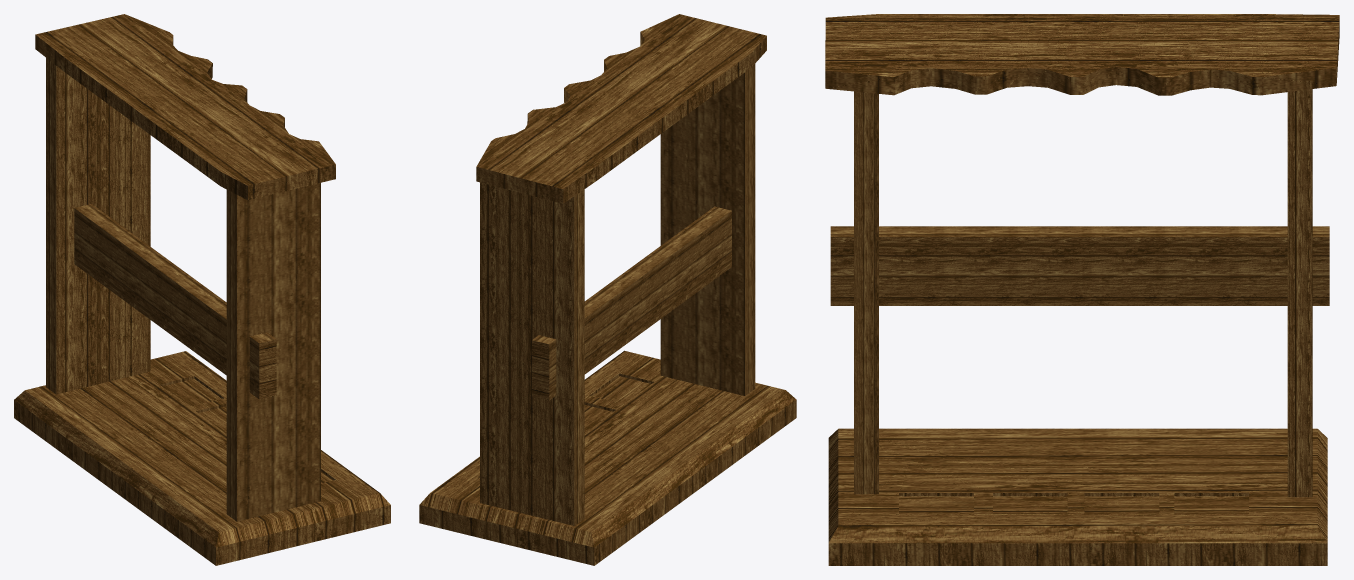
File: weaponrack.FBX
3 renders of one model, left to right at view 1: azimuth 30°, elevation 25°; view 2: azimuth 150°, elevation 25°; view 3: azimuth 270°, elevation 25°, orthographic. The views are drawn at different scales.
Parts seen in each view (by area): view 1: Box001, Box002, Box005, roof, Box004; view 2: Box005, Box001, roof, Box002, Box004; view 3: Box001, roof, Box004, Box005, Box002.
Part boxes in pixels (bbox=[...]): Box001: bbox=[14, 351, 390, 565]; Box002: bbox=[226, 183, 320, 521]; Box005: bbox=[46, 58, 150, 394]; roof: bbox=[35, 14, 335, 200]; Box004: bbox=[74, 204, 276, 399]; Box005: bbox=[480, 182, 584, 525]; Box001: bbox=[419, 350, 796, 565]; roof: bbox=[476, 14, 766, 203]; Box002: bbox=[660, 64, 755, 395]; Box004: bbox=[532, 206, 731, 400]; Box001: bbox=[828, 428, 1327, 565]; roof: bbox=[825, 14, 1339, 95]; Box004: bbox=[830, 226, 1329, 305]; Box005: bbox=[1287, 80, 1312, 497]; Box002: bbox=[854, 91, 878, 494].
Size of the model in its own units: 5 by 10.2 by 10.31.
1 material, 1 textured.
